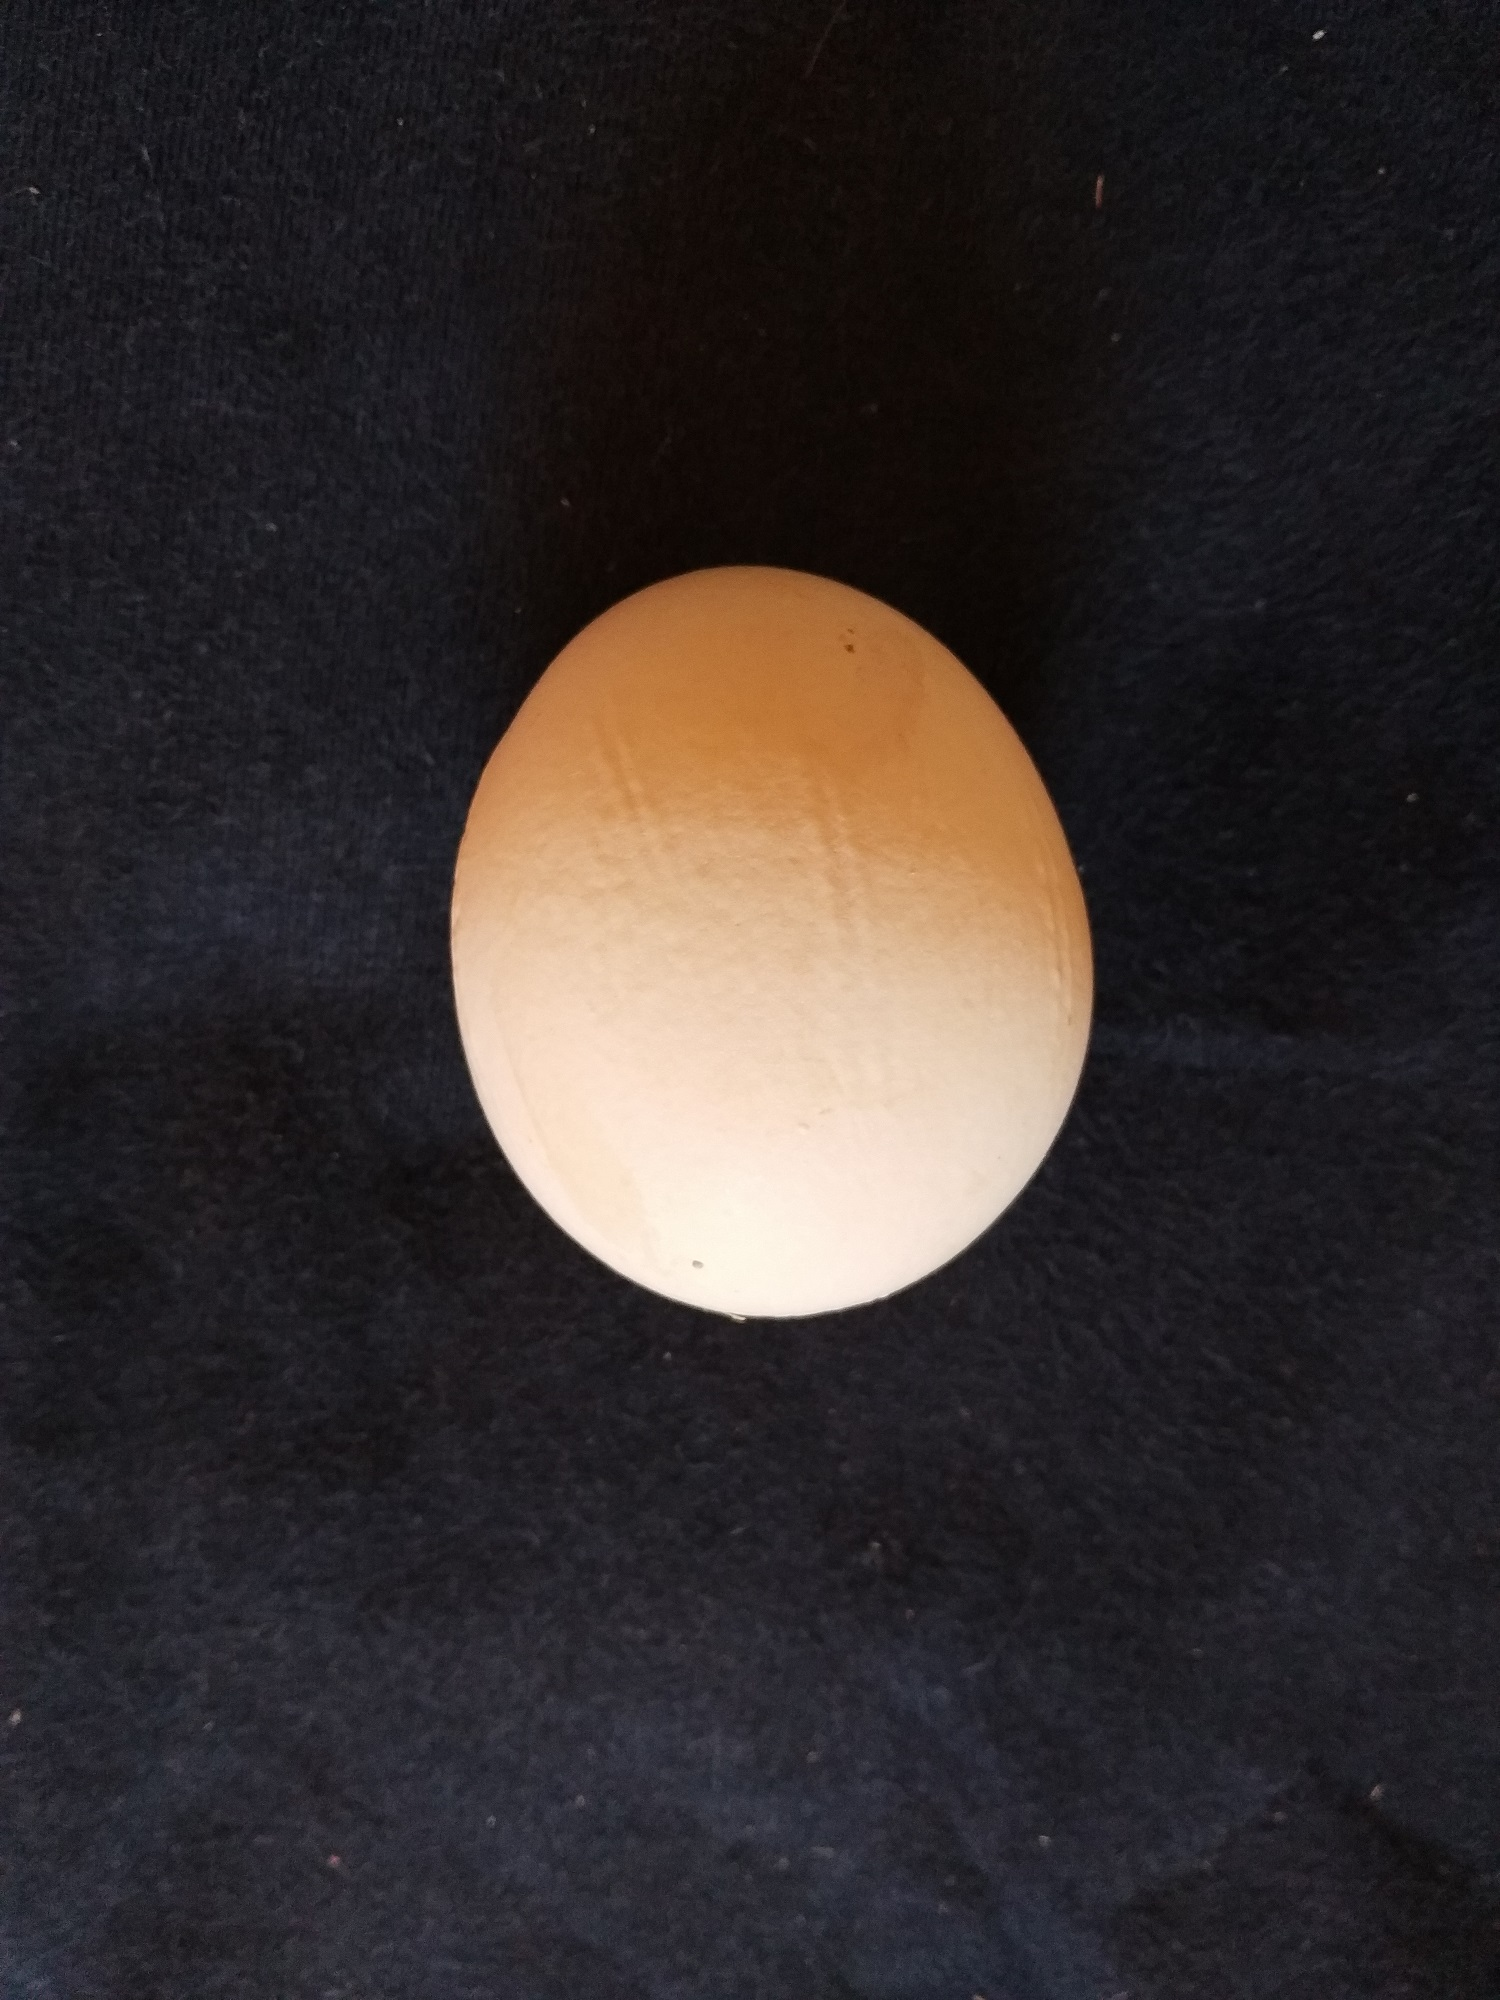Female: (443, 557, 1098, 1324)
